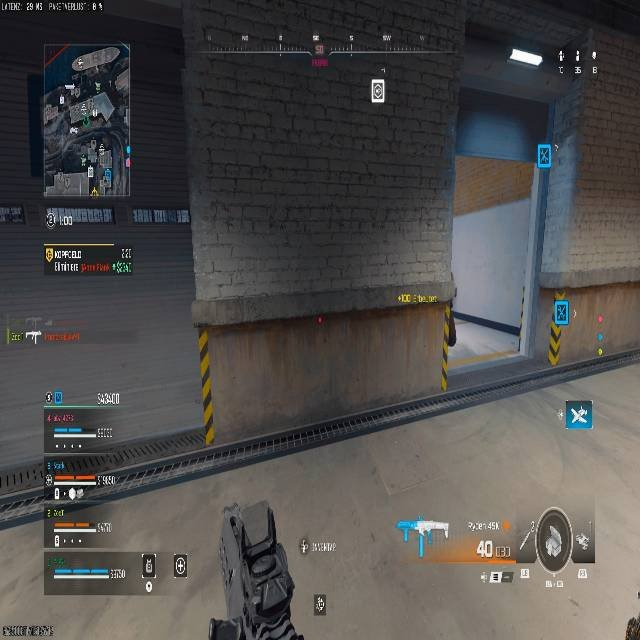head: (68, 44, 125, 93)
player: (39, 47, 130, 197)
